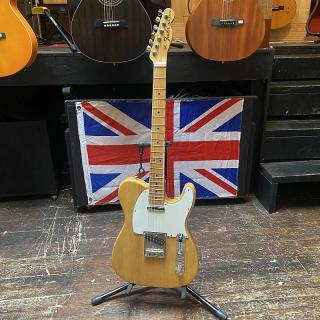Fender Telecaster: (112, 8, 201, 289)
SS: (145, 199, 169, 253)
